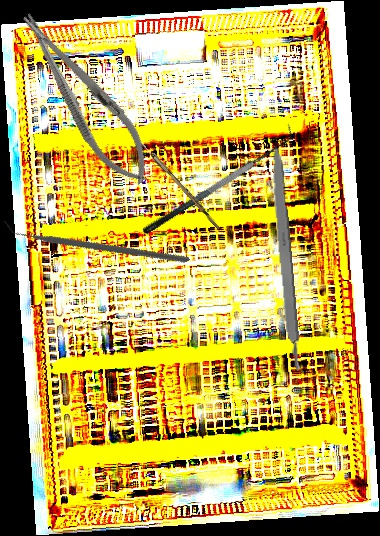Chopper: (3, 159, 191, 322)
Needle Holder: (6, 0, 165, 196)
Scalpel Handle: (266, 139, 303, 376)
Spatula Surgical: (134, 123, 301, 236)
Surgical Spoon: (126, 128, 223, 230)
